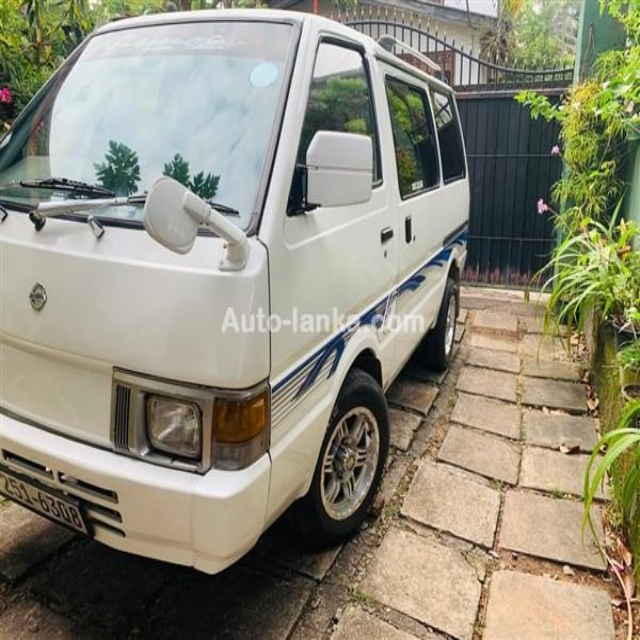Van: (1, 6, 470, 576)
